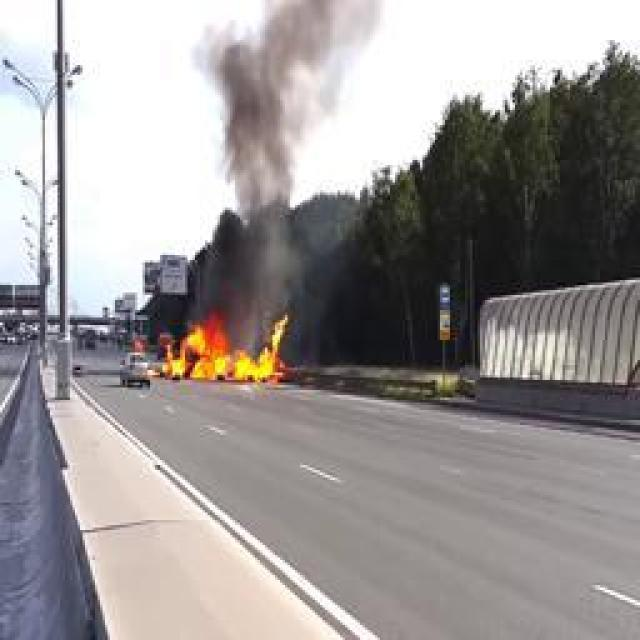Fire: (161, 312, 289, 386)
